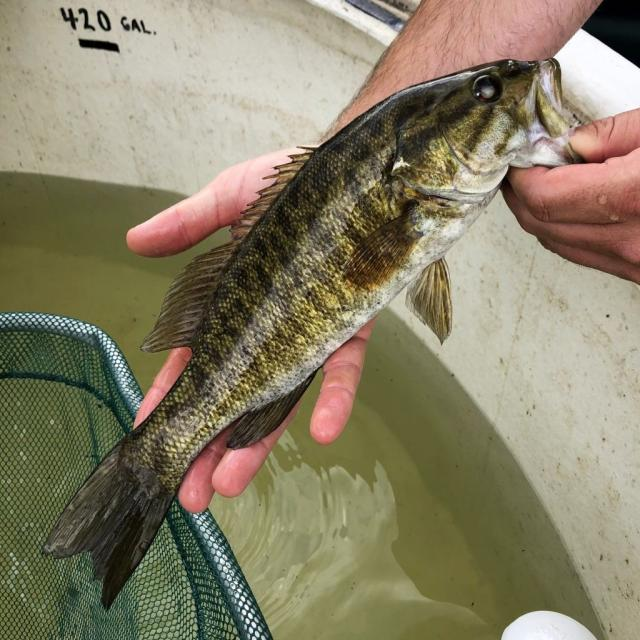Bass - Smallmouth: (43, 59, 576, 607)
